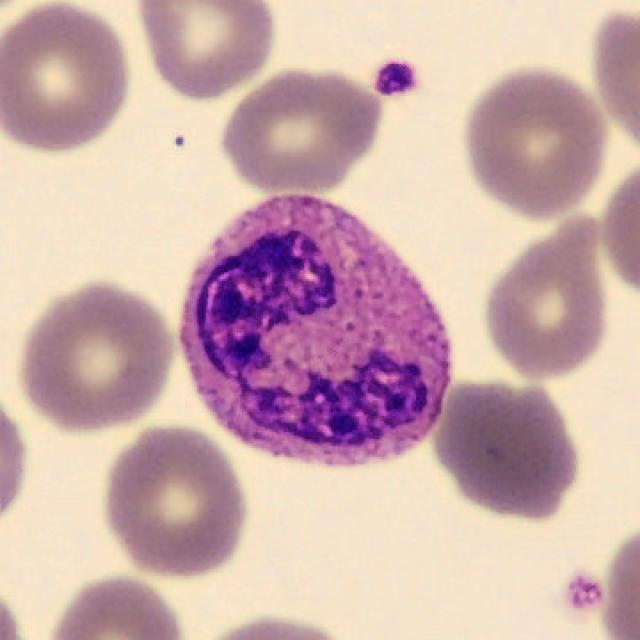Neutrofilo segmentado: (178, 196, 453, 469)
